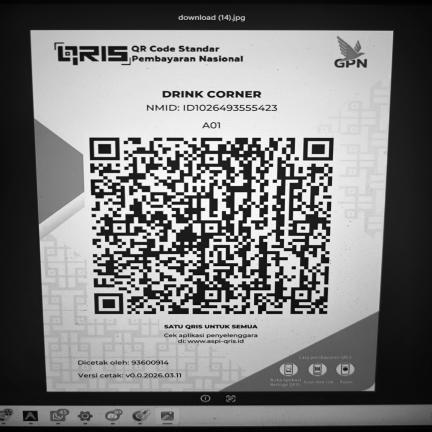Qris-Positioning: (31, 29, 393, 393)
